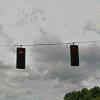Traffic light: (8, 40, 30, 76)
